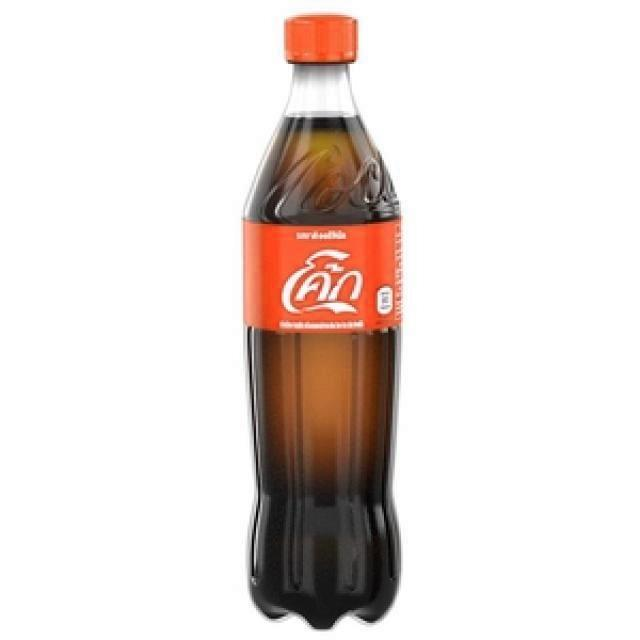bottle: (240, 14, 403, 629)
